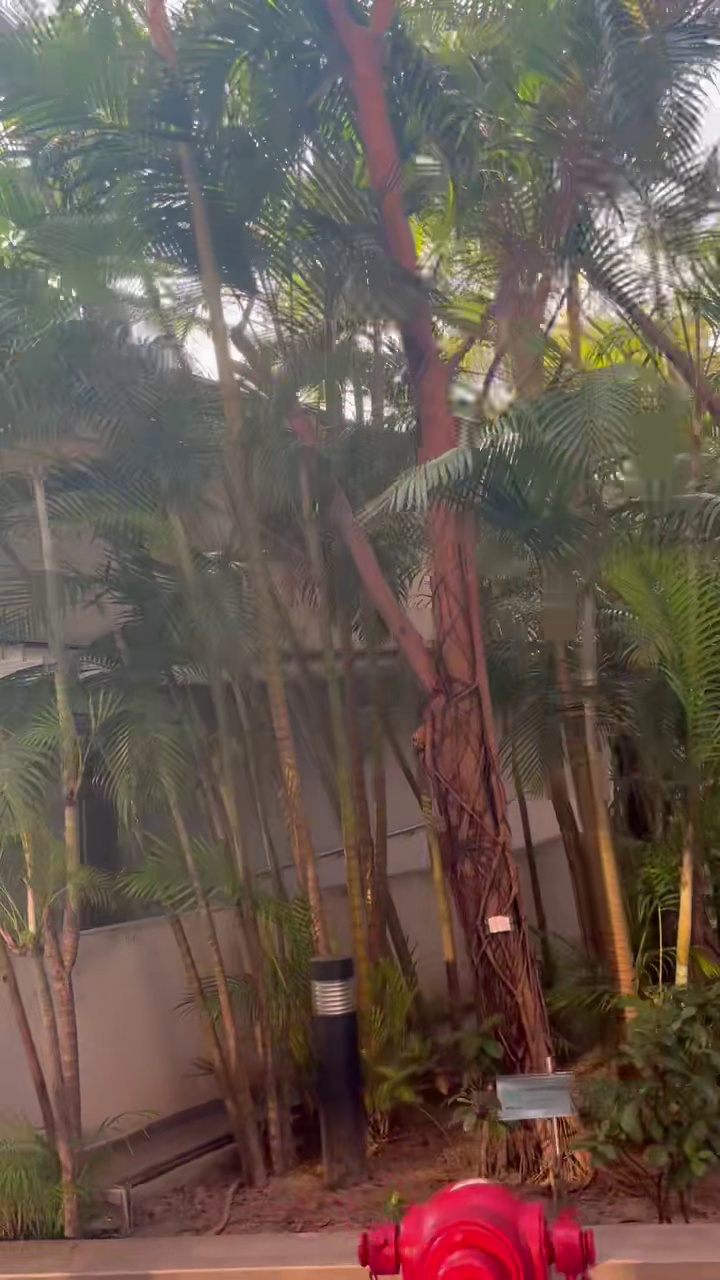Ficus benjamina: (325, 0, 549, 1072)
